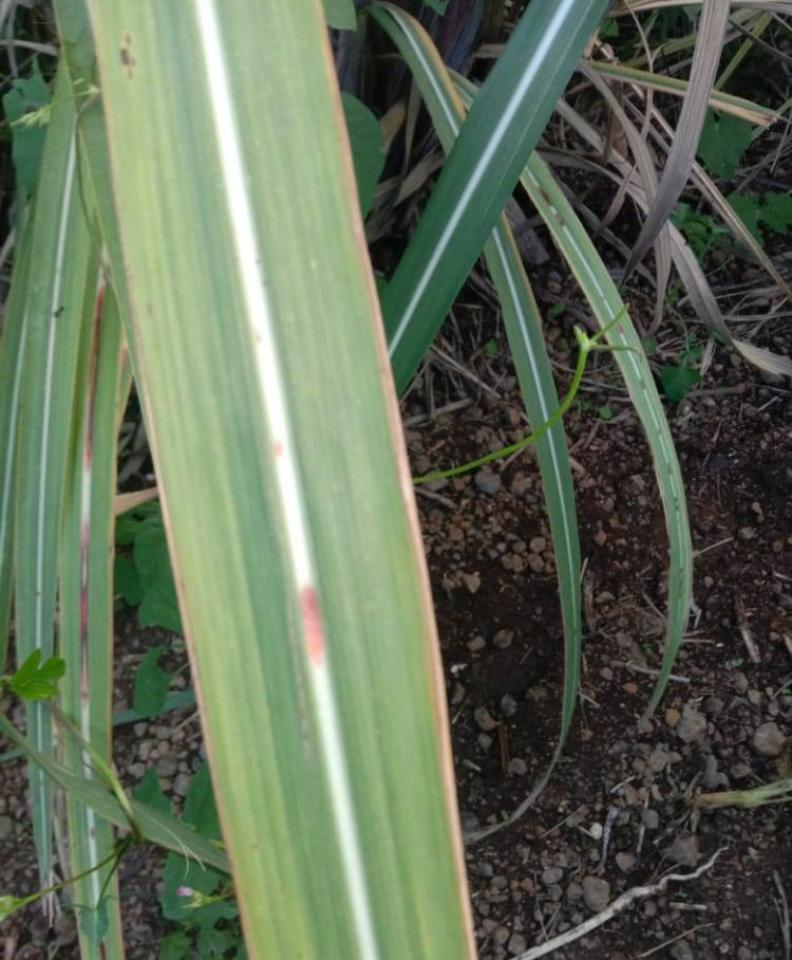RedRot: (86, 284, 105, 473), (300, 582, 325, 667), (80, 523, 89, 711), (274, 439, 284, 457)
Rust: (120, 33, 136, 67), (538, 185, 553, 206)
Yellow: (318, 0, 479, 959), (98, 18, 260, 959)
